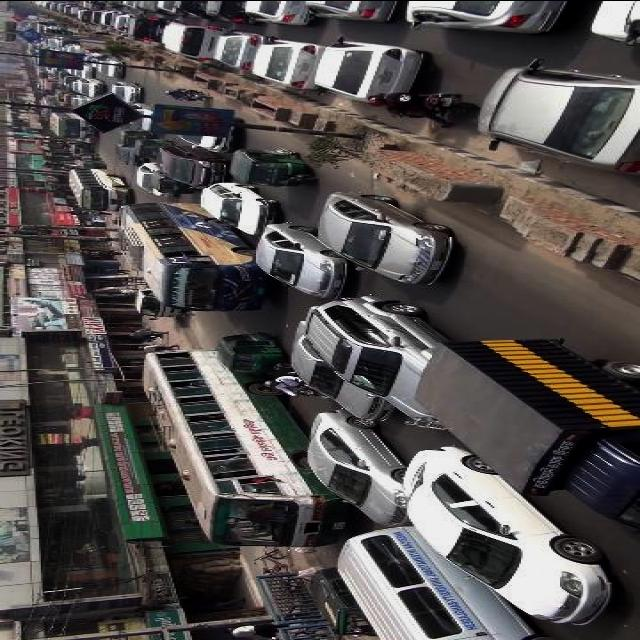bus: (137, 346, 341, 547), (109, 200, 268, 310), (67, 164, 132, 211), (42, 109, 98, 140), (36, 93, 70, 108)
car: (396, 444, 612, 623), (304, 296, 468, 429), (471, 57, 638, 174), (313, 188, 453, 288), (300, 405, 418, 522), (284, 320, 394, 421), (254, 222, 354, 298), (313, 41, 425, 100), (398, 0, 567, 34), (190, 179, 274, 234), (249, 35, 329, 91), (160, 112, 244, 151), (212, 25, 268, 70), (302, 0, 392, 24), (592, 0, 638, 43), (238, 0, 308, 26), (130, 162, 178, 195), (202, 0, 256, 23), (121, 103, 160, 133), (122, 12, 162, 38), (105, 81, 146, 104), (172, 0, 214, 19), (108, 144, 146, 163), (92, 54, 122, 77), (58, 39, 82, 51), (100, 9, 118, 23), (74, 7, 92, 20), (56, 3, 76, 14), (70, 94, 86, 106), (73, 63, 89, 75), (116, 12, 126, 29), (119, 0, 142, 6), (89, 9, 101, 20)
motorcycle: (302, 565, 368, 638), (228, 146, 318, 187), (210, 332, 290, 369), (391, 85, 475, 118), (130, 135, 178, 159), (151, 170, 192, 191), (290, 379, 330, 396), (117, 129, 151, 145), (66, 138, 96, 155), (182, 87, 212, 103)
truck: (408, 333, 638, 530), (328, 523, 558, 639), (154, 144, 228, 189), (158, 20, 224, 59), (124, 285, 190, 319), (73, 77, 103, 95)
